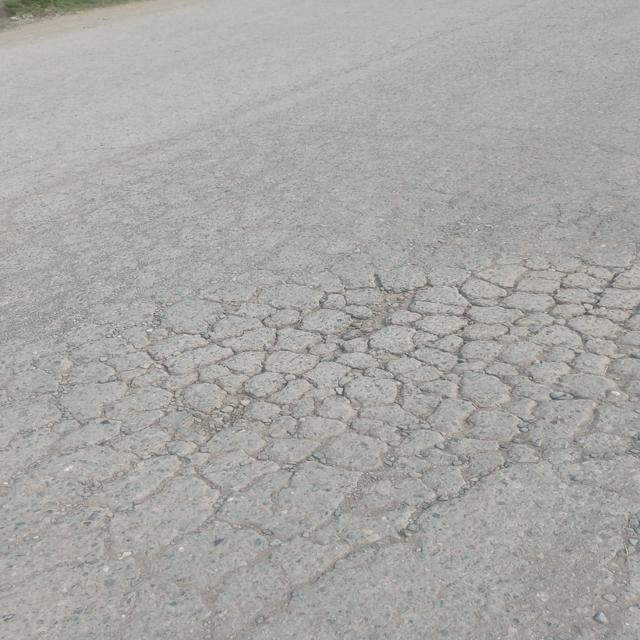Retak Buaya: (22, 242, 640, 537)
